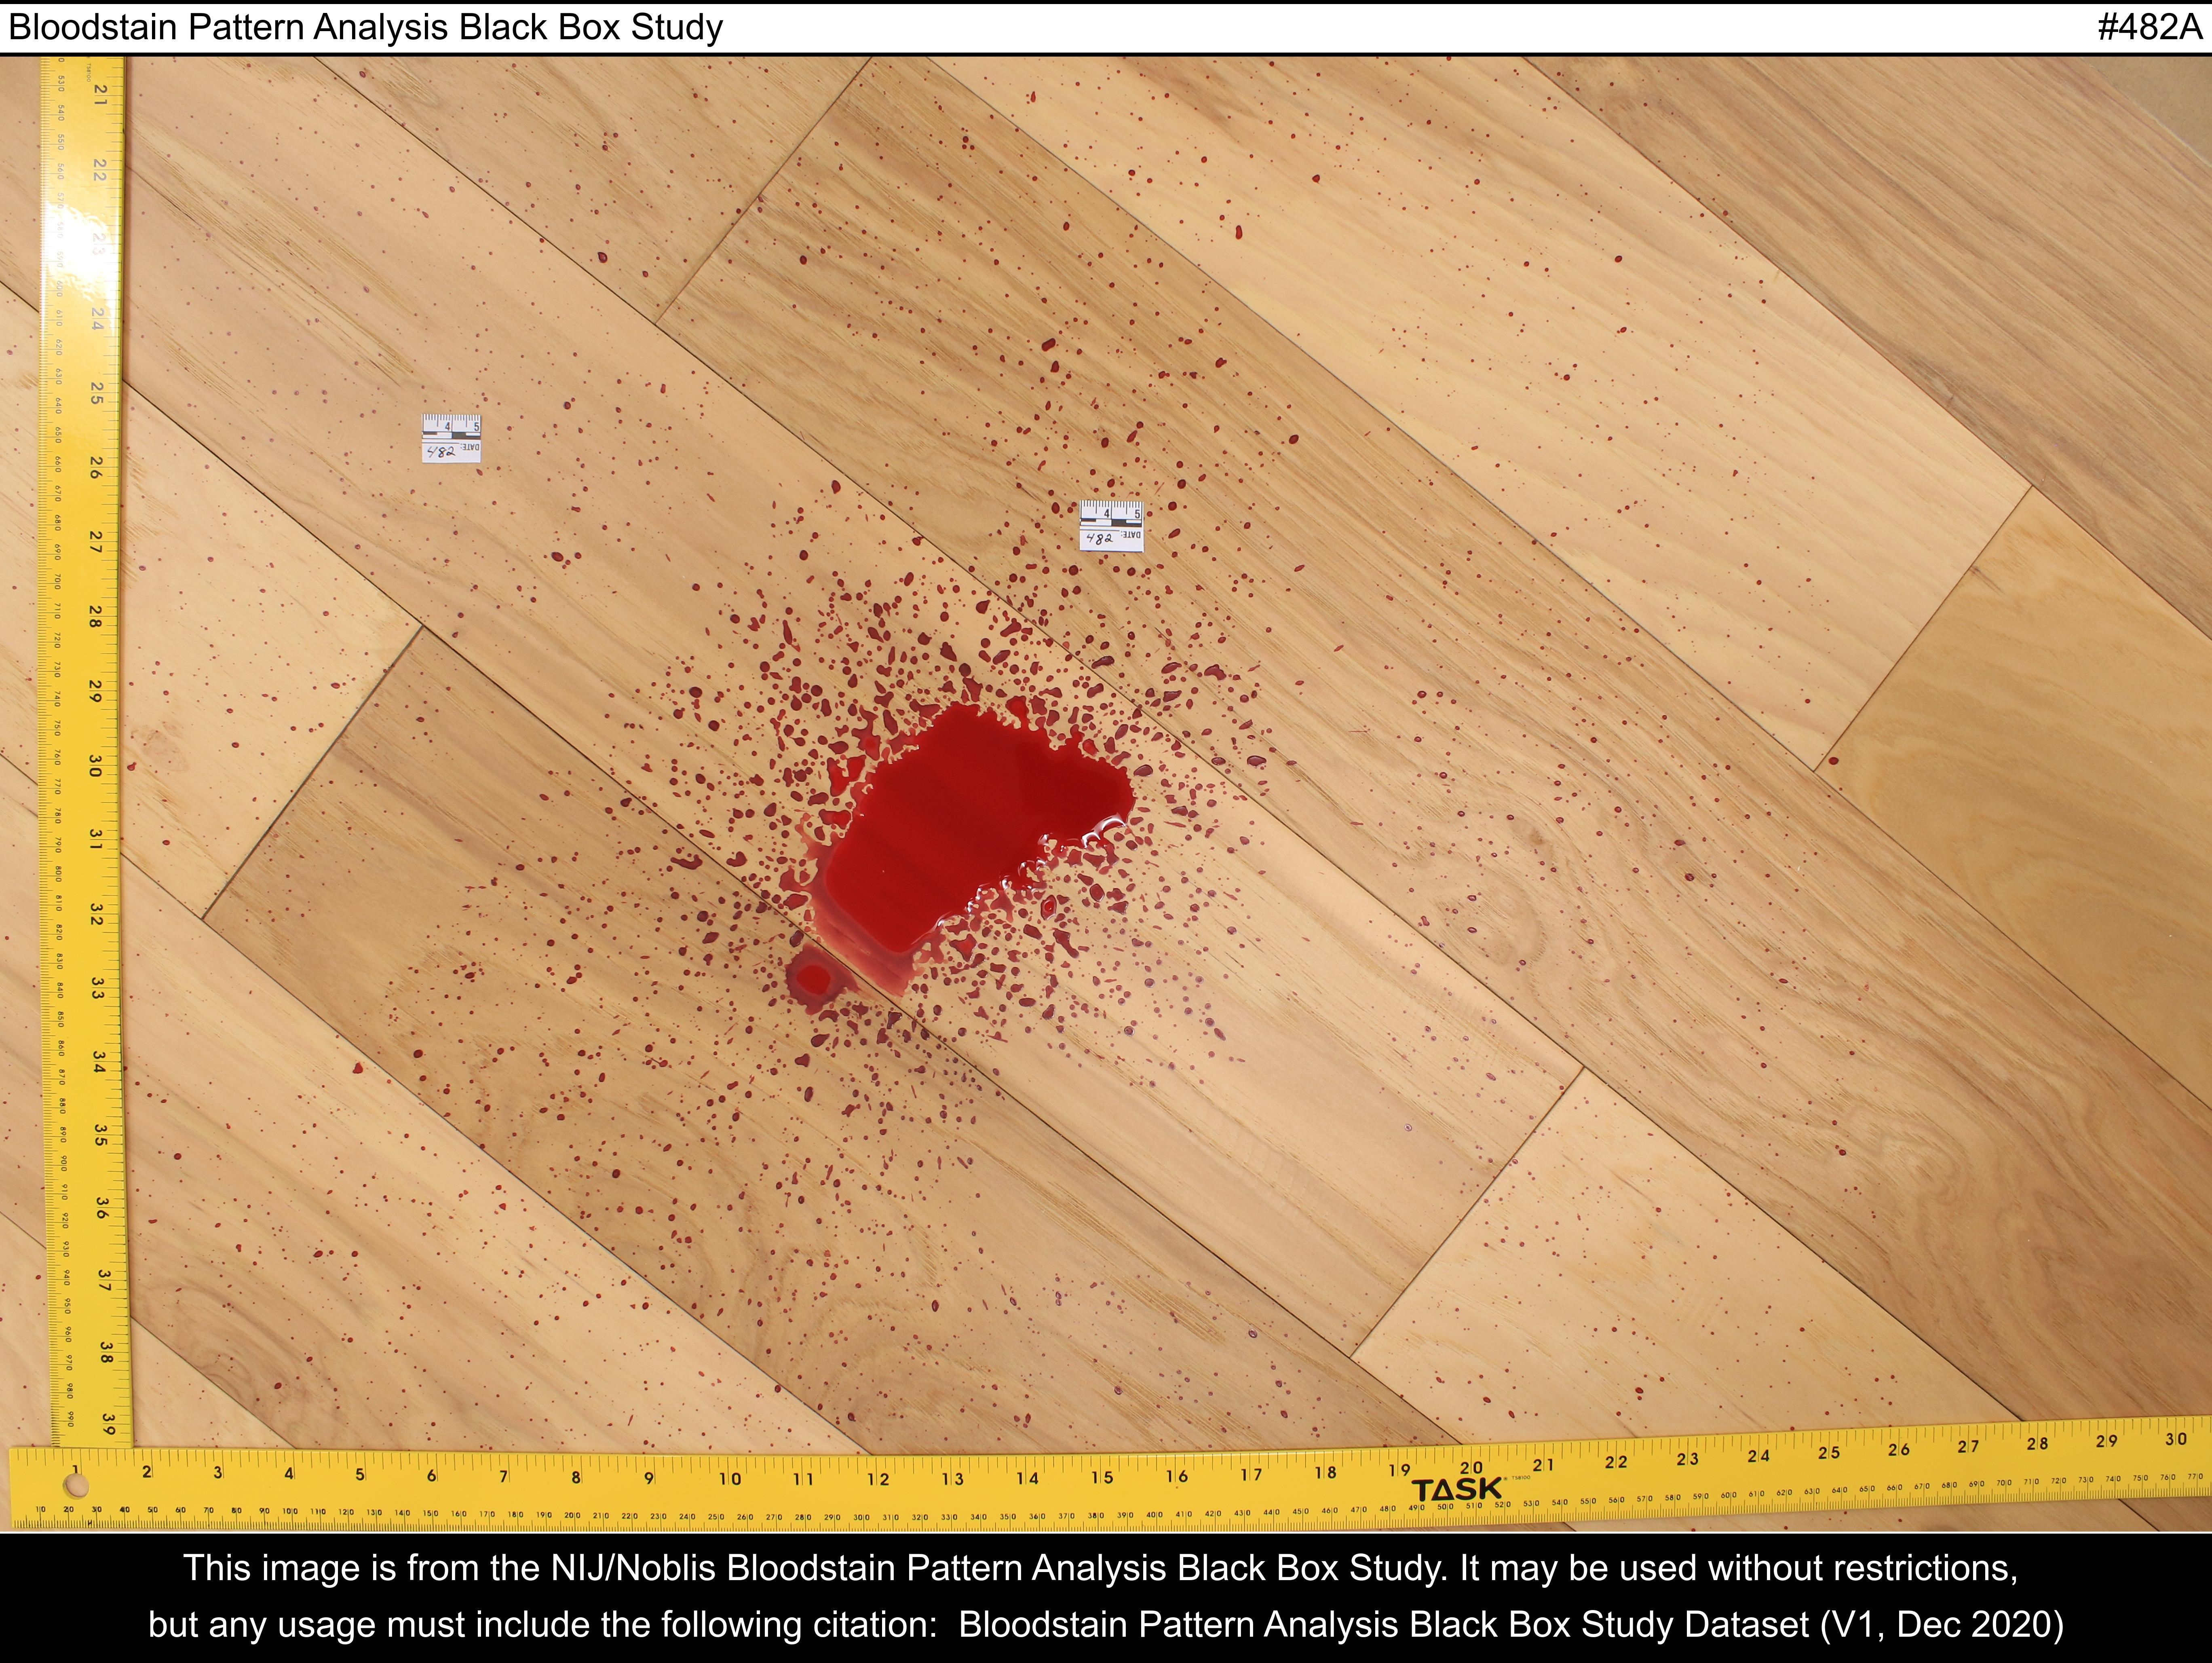Passive: (618, 517, 1261, 1172)
